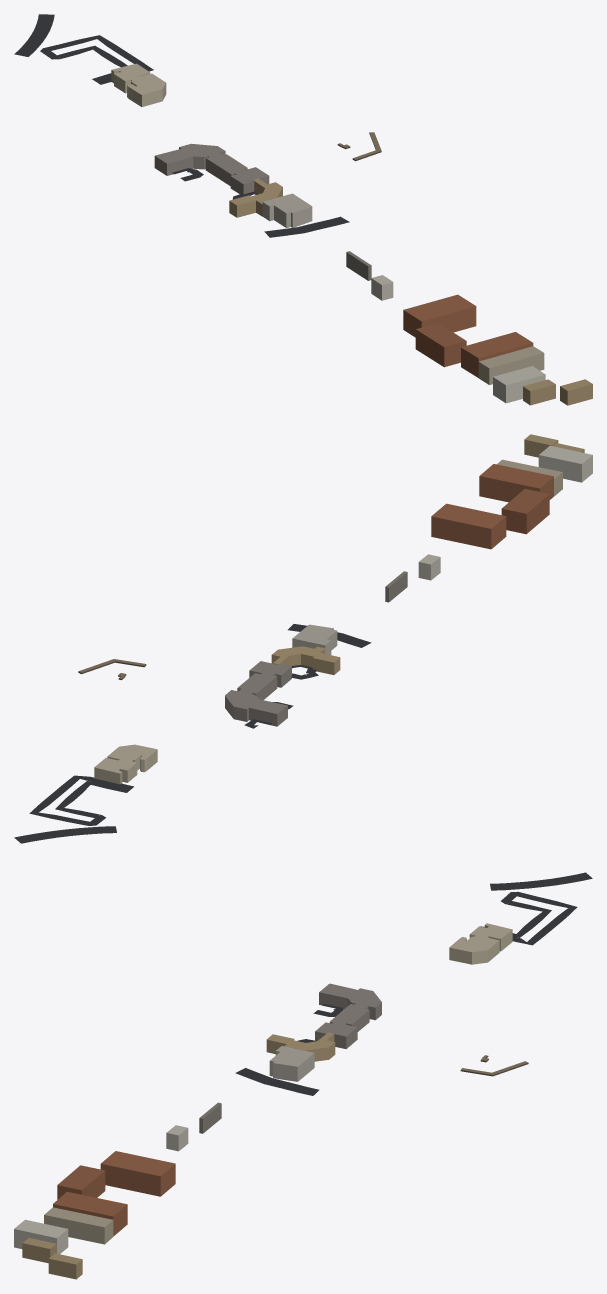
The model's file is tile_18_8.glb.
3 renders of one model, top to bottom at view 1: azimuth 30°, elevation 25°; view 2: azimuth 150°, elevation 25°; view 3: azimuth 330°, elevation 25°, orthographic. The views are drawn at different scales.
Visible parts, largest first — view 1: bld_18_8, road_18_8; view 2: bld_18_8, road_18_8; view 3: bld_18_8, road_18_8.
Part boxes in pixels (x1,y1,x2,y2): bld_18_8: [111, 63, 592, 405]; road_18_8: [14, 14, 349, 237]; bld_18_8: [94, 434, 592, 784]; road_18_8: [14, 624, 371, 843]; bld_18_8: [14, 923, 512, 1279]; road_18_8: [235, 872, 592, 1095].
Bounding box in the file's own units: 113 × 14.61 × 496.
